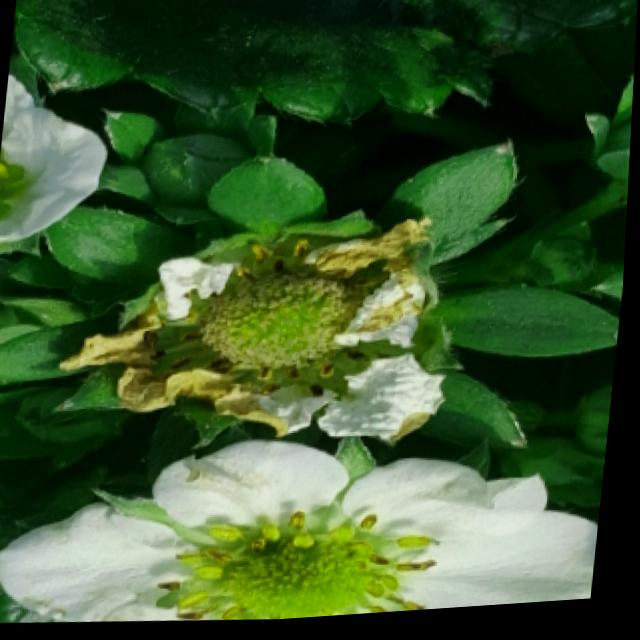Blossom Blight: (144, 238, 394, 403), (163, 507, 451, 624)
